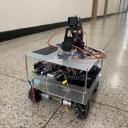cart: (23, 44, 105, 119)
